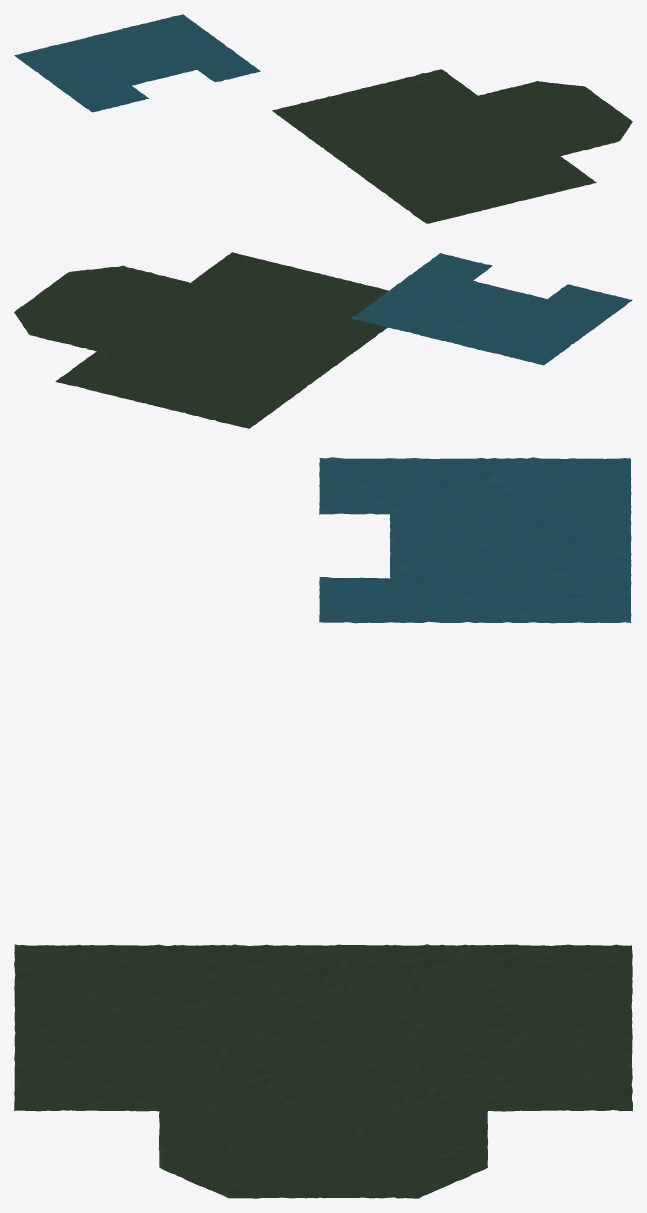
Rendered from CarpetsComplete.fbx.
3 views of the same model, one above another, from view 1: azimuth 30°, elevation 25°; view 2: azimuth 150°, elevation 25°; view 3: azimuth 270°, elevation 25° (orthographic). The views are drawn at different scales.
Parts seen in each view (by area): view 1: LivingRoomCarpet, LivingRoomCarpet.001; view 2: LivingRoomCarpet, LivingRoomCarpet.001; view 3: LivingRoomCarpet, LivingRoomCarpet.001.
Boxes of the visible parts, x1=… form: LivingRoomCarpet: x1=272, y1=69, x2=632, y2=223; LivingRoomCarpet.001: x1=14, y1=14, x2=260, y2=112; LivingRoomCarpet: x1=14, y1=252, x2=388, y2=428; LivingRoomCarpet.001: x1=351, y1=253, x2=632, y2=365; LivingRoomCarpet: x1=14, y1=944, x2=632, y2=1198; LivingRoomCarpet.001: x1=319, y1=457, x2=631, y2=623.
Size of the model in its own units: 1324 by 292 by 687.
Materials: 2 (2 with a texture image).
